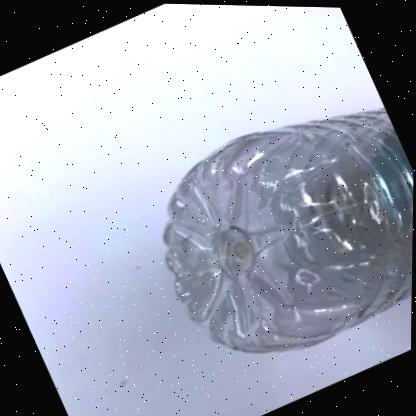Plastic: (164, 106, 414, 351)
